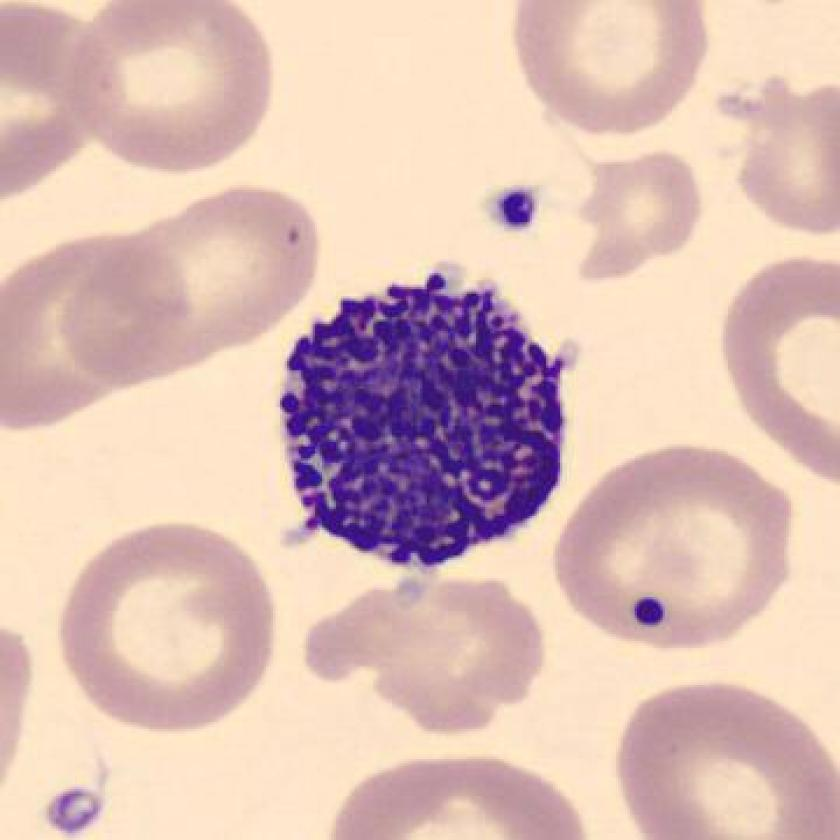basophil: (281, 279, 573, 566)
